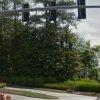Tree: (10, 18, 92, 84)
